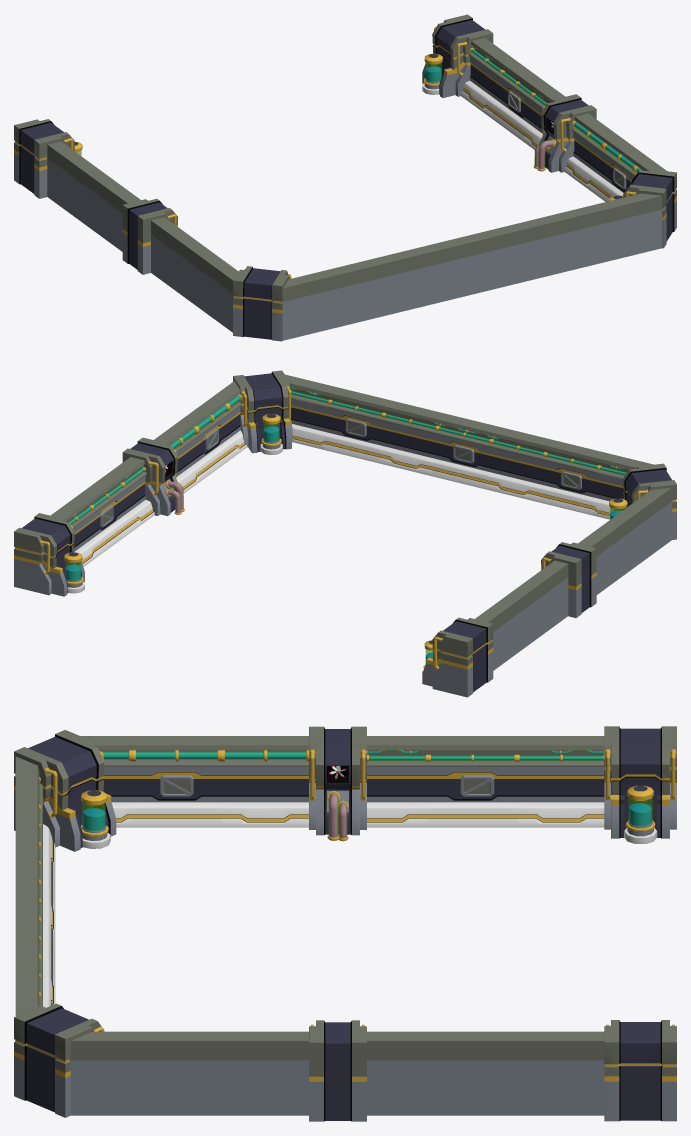
Rendered from Level.fbx.
The picture shows the model from 3 angles, top to bottom: view 1: azimuth 30°, elevation 25°; view 2: azimuth 150°, elevation 25°; view 3: azimuth 270°, elevation 25°; orthographic projection. The views are drawn at different scales.
Visible parts, largest first — view 1: Base (×24), Bottle; view 2: Base (×25), Bottle (×2); view 3: Base (×25), Bottle (×2), Pipe1 (×2), Cage (×2).
Part boxes in pixels (x1,y1,x2,y2): Base (×24): (14, 14, 676, 341); Bottle: (422, 53, 442, 94); Base (×25): (14, 370, 676, 697); Bottle (×2): (64, 414, 282, 593); Base (×25): (14, 726, 676, 1121); Bottle (×2): (81, 785, 657, 848); Pipe1 (×2): (132, 750, 308, 761); Cage (×2): (160, 775, 494, 796).
Size of the model in its own units: 618 by 73.12 by 547.
